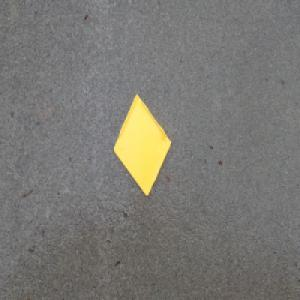PlasticPart: (112, 92, 172, 197)
